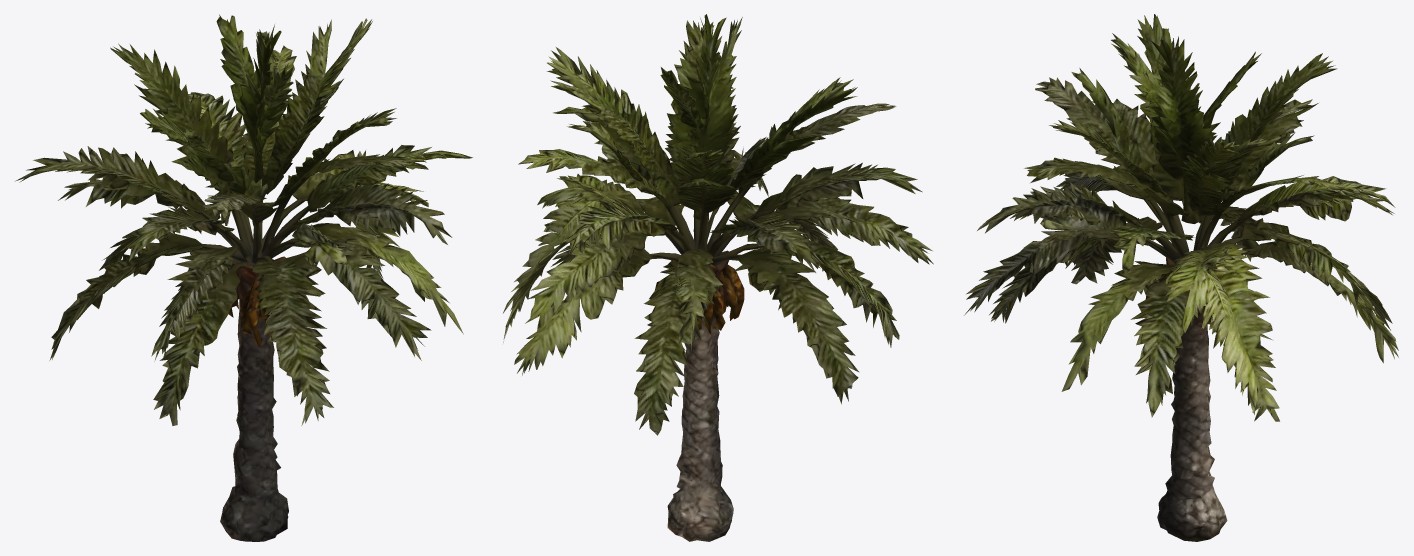
The model's file is palm.glb.
3 views of the same model, side by side, from view 1: azimuth 30°, elevation 25°; view 2: azimuth 150°, elevation 25°; view 3: azimuth 270°, elevation 25° (orthographic). The views are drawn at different scales.
Parts seen in each view (by area): view 1: tripo_node_89173a95-8b51-4101-af09-a4533eea1a73; view 2: tripo_node_89173a95-8b51-4101-af09-a4533eea1a73; view 3: tripo_node_89173a95-8b51-4101-af09-a4533eea1a73.
Part boxes in pixels (left/top/right/bottom): tripo_node_89173a95-8b51-4101-af09-a4533eea1a73: left=15, top=14, right=472, bottom=541; tripo_node_89173a95-8b51-4101-af09-a4533eea1a73: left=503, top=14, right=933, bottom=541; tripo_node_89173a95-8b51-4101-af09-a4533eea1a73: left=964, top=14, right=1398, bottom=541.
Size of the model in its own units: 0.7453 by 1 by 0.7898.
1 material, 1 textured.
